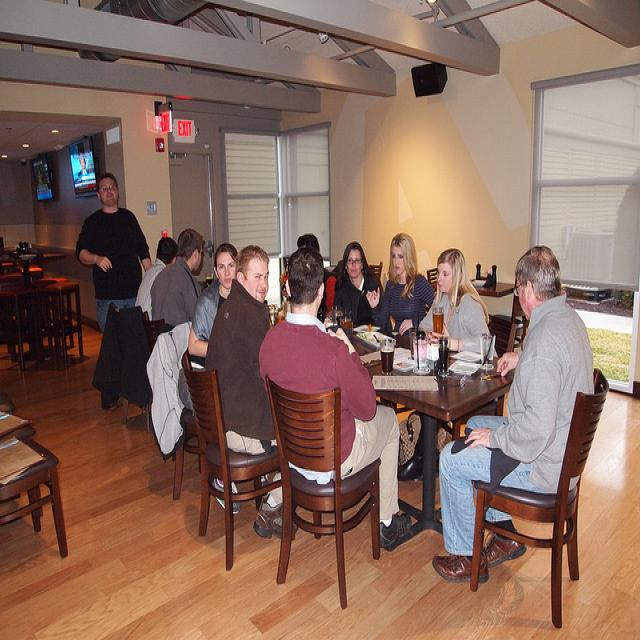chair: (467, 368, 610, 629), (266, 373, 379, 612), (183, 351, 282, 571), (93, 303, 171, 434), (1, 432, 69, 556), (1, 282, 42, 372), (44, 284, 84, 369), (475, 286, 520, 357), (0, 405, 38, 436), (511, 306, 529, 352), (471, 264, 497, 287), (368, 262, 383, 281), (426, 267, 437, 284)
dining table: (321, 304, 513, 422), (0, 249, 65, 286)
